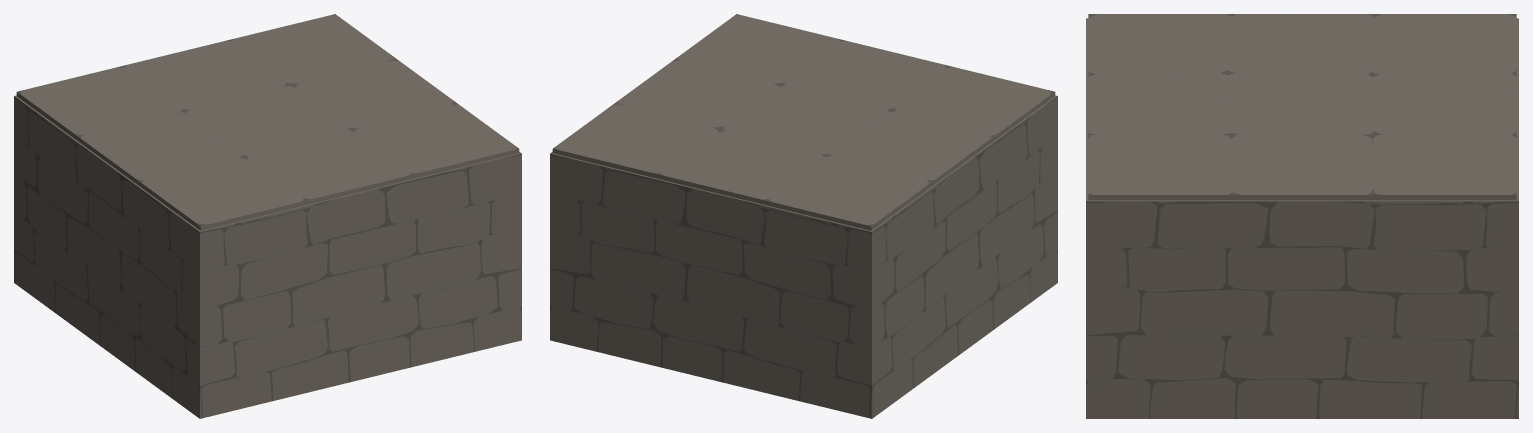
Rendered from SM_Polygonal_Stone_Foundation.fbx.
The picture shows the model from 3 angles, left to right: view 1: azimuth 30°, elevation 25°; view 2: azimuth 150°, elevation 25°; view 3: azimuth 270°, elevation 25°; orthographic projection. The views are drawn at different scales.
Parts seen in each view (by area): view 1: SM_Polygonal_Stone_Foundation_LOD0; view 2: SM_Polygonal_Stone_Foundation_LOD0; view 3: SM_Polygonal_Stone_Foundation_LOD0.
Boxes of the visible parts, bbox=[...] form: SM_Polygonal_Stone_Foundation_LOD0: bbox=[14, 14, 521, 418]; SM_Polygonal_Stone_Foundation_LOD0: bbox=[550, 14, 1057, 418]; SM_Polygonal_Stone_Foundation_LOD0: bbox=[1086, 14, 1518, 418].
Size of the model in its own units: 300 by 300 by 170.
1 material, 1 textured.
